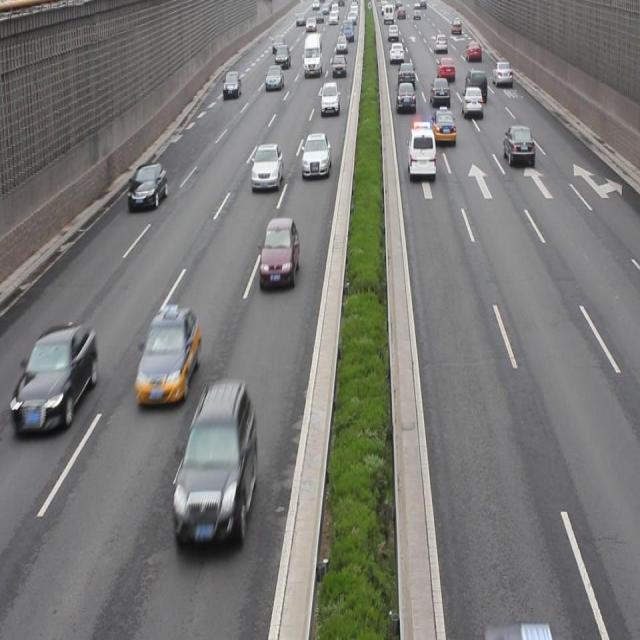car: (170, 380, 256, 546), (12, 325, 96, 428), (136, 302, 200, 404), (258, 215, 298, 284), (128, 162, 166, 212), (250, 143, 283, 188), (301, 133, 331, 180), (501, 126, 534, 167), (429, 106, 456, 144)
truck: (408, 121, 434, 181)
